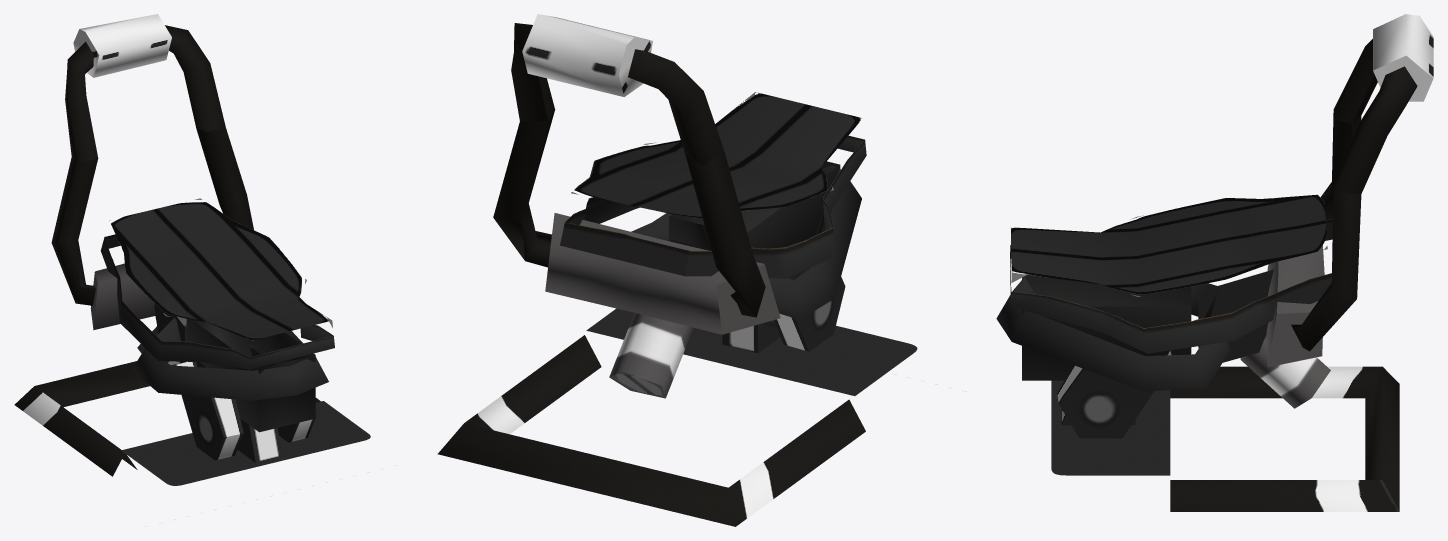
Rendered from obj_interactive_saddle_03_lod1.fbx.
3 renders of one model, left to right at view 1: azimuth 30°, elevation 25°; view 2: azimuth 150°, elevation 25°; view 3: azimuth 270°, elevation 25°, orthographic. The views are drawn at different scales.
Parts seen in each view (by area): view 1: polySurface6; view 2: polySurface6; view 3: polySurface6.
Part boxes in pixels (x1,y1,x2,y2): polySurface6: (14,14,370,485); polySurface6: (437,14,917,526); polySurface6: (996,14,1433,511).
Size of the model in its own units: 2.77 by 3.6 by 3.42.
Materials: 1 (1 with a texture image).
